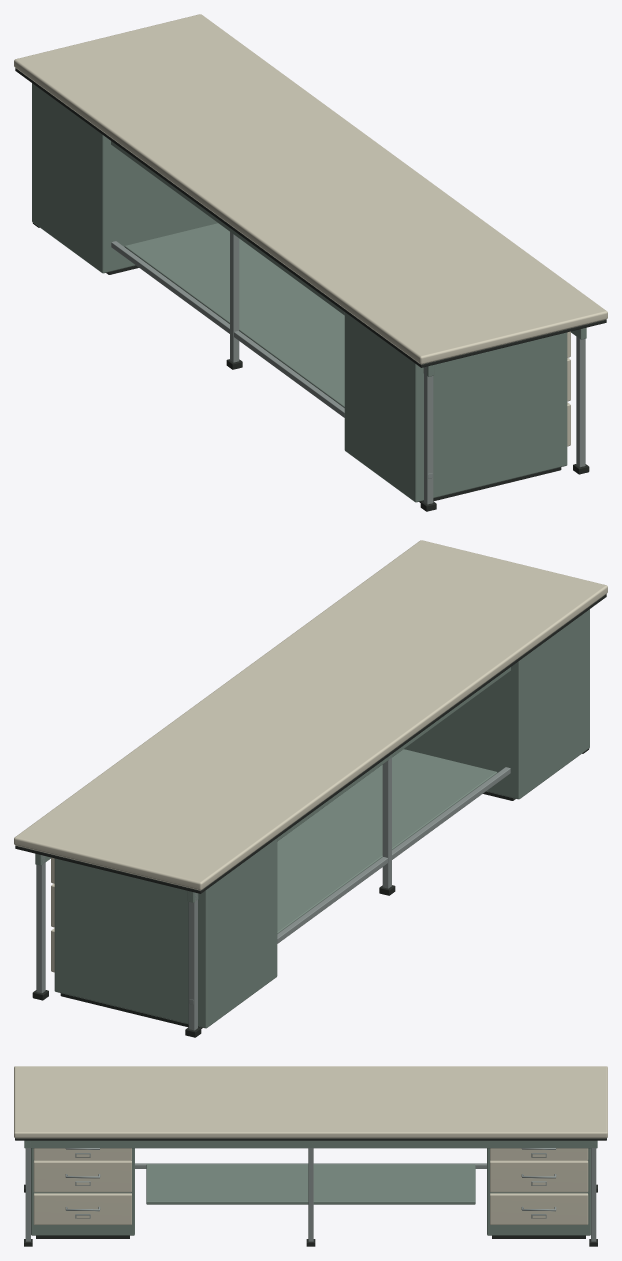
File: V10_LabBench.fbx
3 views of the same model, one above another, from view 1: azimuth 30°, elevation 25°; view 2: azimuth 150°, elevation 25°; view 3: azimuth 270°, elevation 25° (orthographic). The views are drawn at different scales.
Parts seen in each view (by area): view 1: V10_LabBench_CH09_Cream, V10_LabBench_CH09_Green, V10_LabBench_CH09_Steel, V10_LabBench_CH09_Rubber; view 2: V10_LabBench_CH09_Cream, V10_LabBench_CH09_Green, V10_LabBench_CH09_Steel, V10_LabBench_CH09_Rubber; view 3: V10_LabBench_CH09_Cream, V10_LabBench_CH09_Green, V10_LabBench_CH09_Steel, V10_LabBench_CH09_Rubber.
Part boxes in pixels (x1=…): V10_LabBench_CH09_Cream: x1=14, y1=14, x2=607, y2=446; V10_LabBench_CH09_Green: x1=32, y1=83, x2=586, y2=502; V10_LabBench_CH09_Steel: x1=111, y1=231, x2=585, y2=504; V10_LabBench_CH09_Rubber: x1=15, y1=68, x2=606, y2=511; V10_LabBench_CH09_Cream: x1=14, y1=540, x2=607, y2=972; V10_LabBench_CH09_Green: x1=35, y1=609, x2=589, y2=1028; V10_LabBench_CH09_Steel: x1=36, y1=755, x2=510, y2=1030; V10_LabBench_CH09_Rubber: x1=15, y1=594, x2=606, y2=1037; V10_LabBench_CH09_Cream: x1=14, y1=1066, x2=607, y2=1224; V10_LabBench_CH09_Green: x1=24, y1=1140, x2=597, y2=1235; V10_LabBench_CH09_Steel: x1=25, y1=1142, x2=596, y2=1241; V10_LabBench_CH09_Rubber: x1=15, y1=1138, x2=606, y2=1246.
Bounding box in the file's own units: 116 × 96 × 435.
